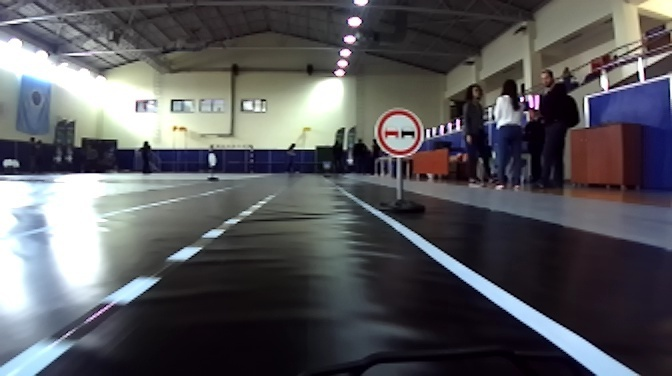sollama_yasak: (372, 107, 422, 157)
